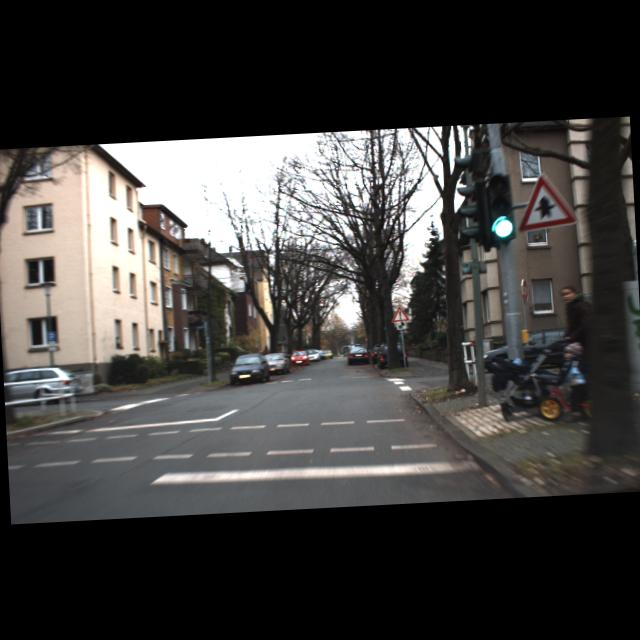danger: (514, 170, 580, 232), (390, 304, 409, 322)
